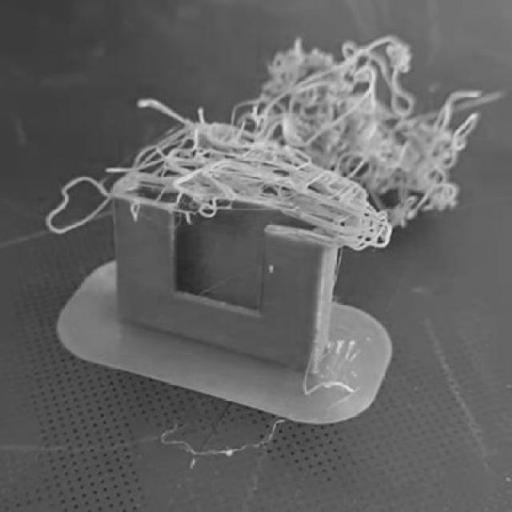spaghetti_and_stringing: (230, 31, 508, 252), (44, 92, 232, 240)
